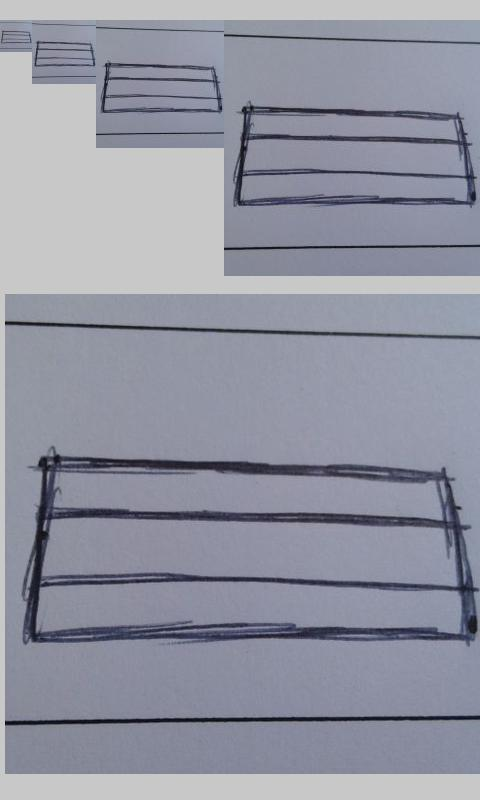list_view: (25, 452, 476, 651), (234, 102, 476, 209), (100, 62, 223, 113), (34, 40, 96, 67), (1, 30, 32, 44)
